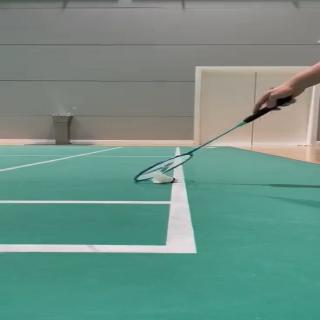Shuttle: (151, 172, 179, 184)
